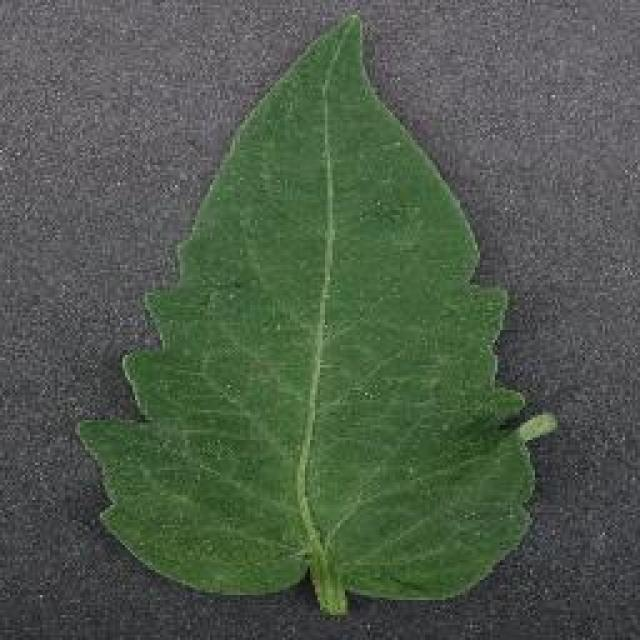healthy: (73, 23, 542, 616)
